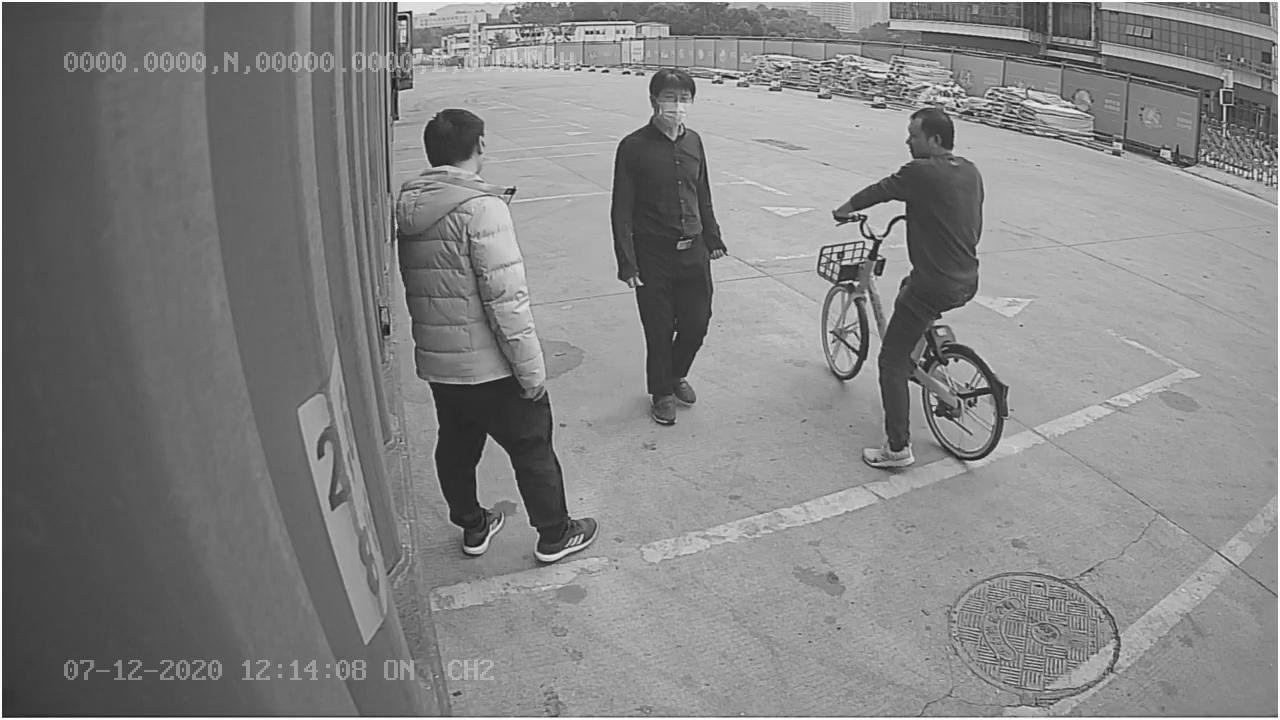person: (611, 62, 731, 425)
